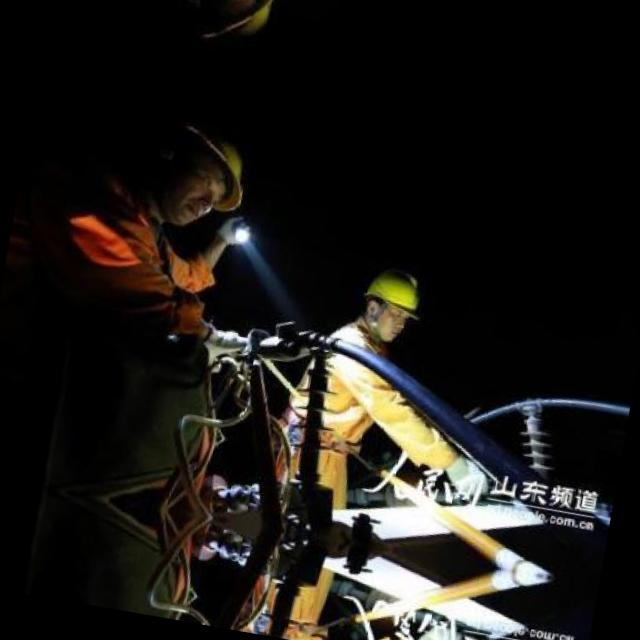helmet: (135, 110, 254, 235), (352, 254, 428, 350), (166, 0, 280, 58)
